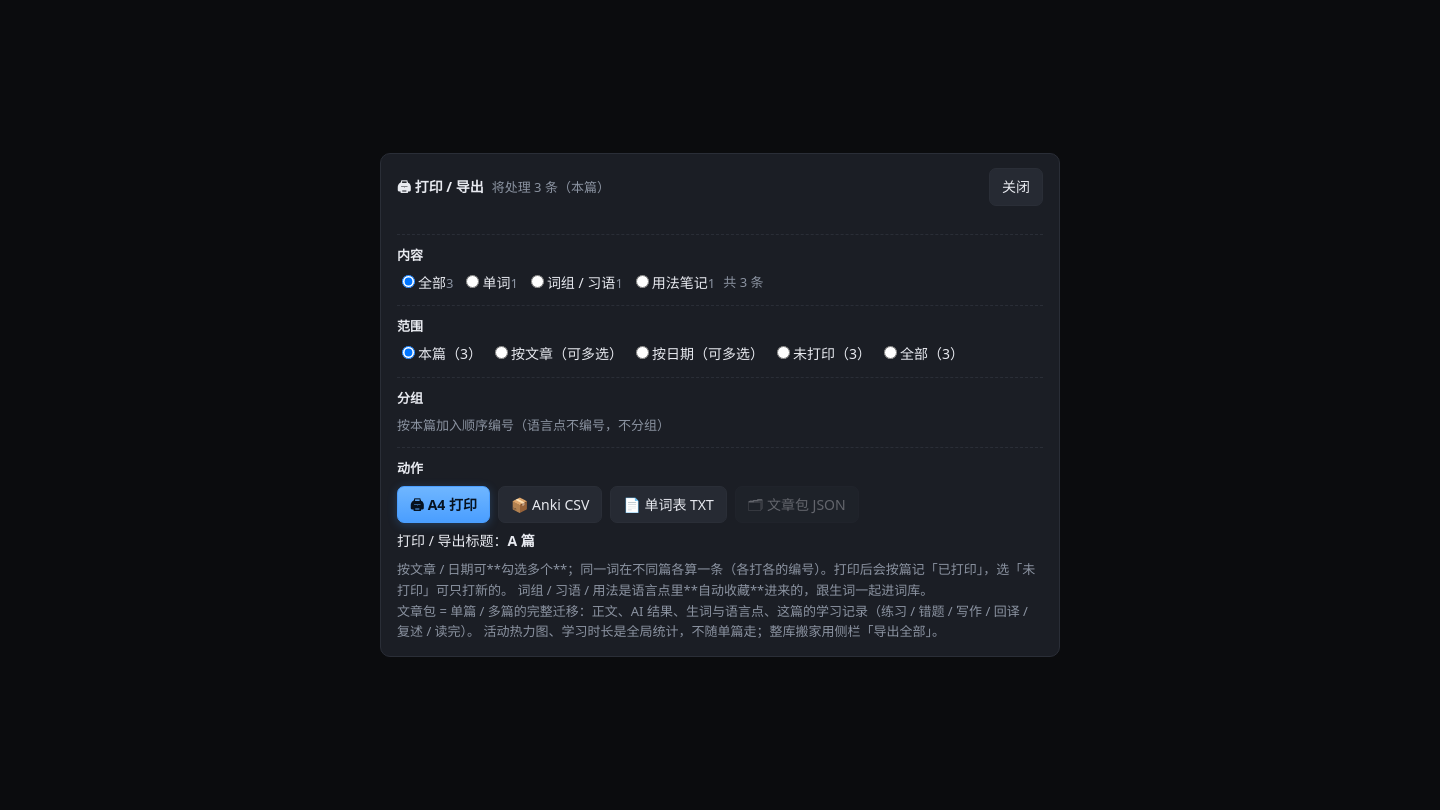
Test case: ExportPanel：内容口径 › 面板上能看到打印标题（不用真打印才知道叫什么）
Click the radio button labelled "词组 / 习语1" at (537, 281), box [531,275,544,288]
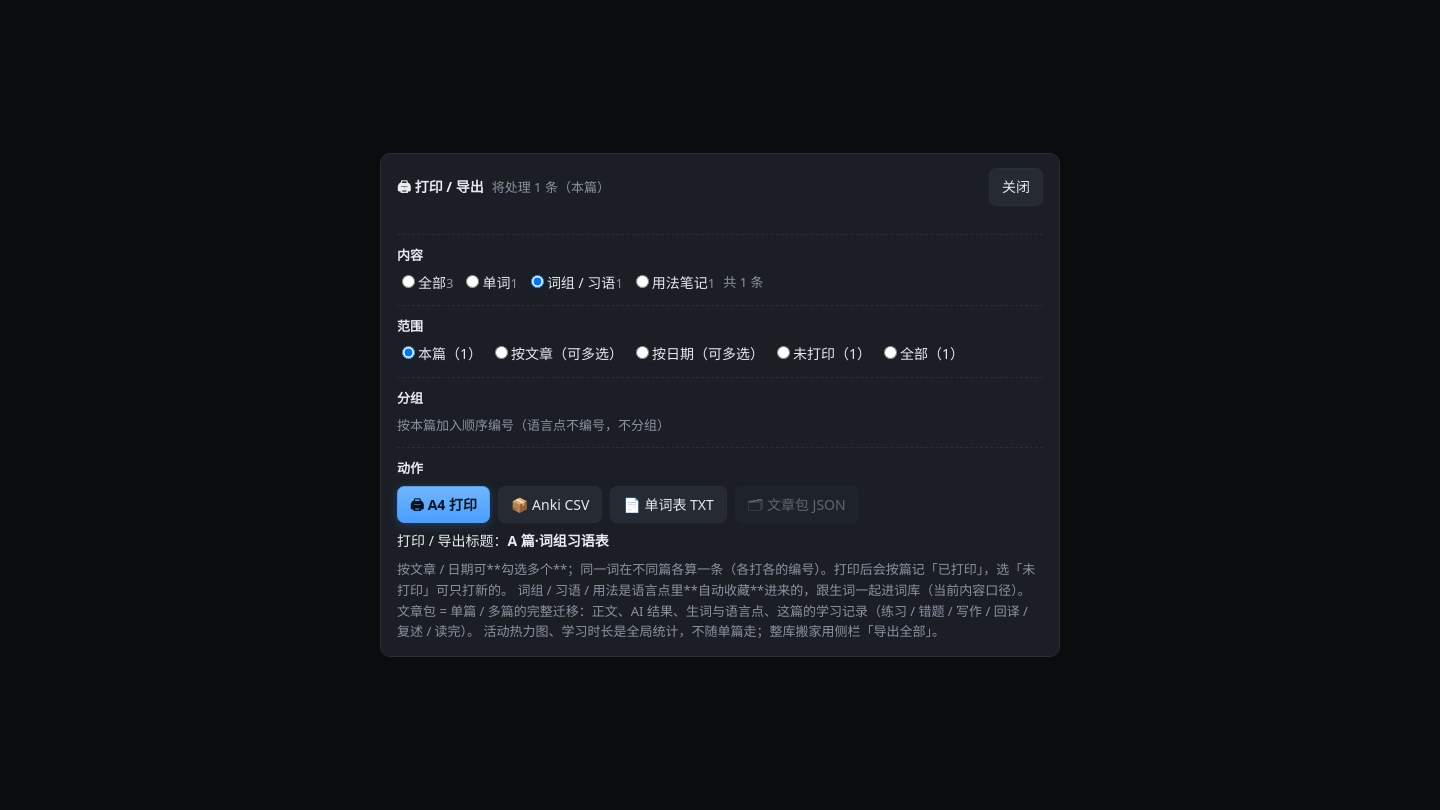
Expected: the text "A 篇·词组习语表" is shown, [508,531,609,550]
